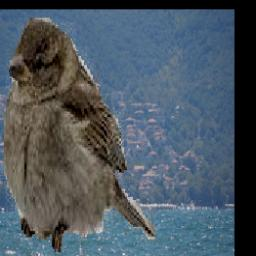Sparrow: (3, 19, 154, 256)
